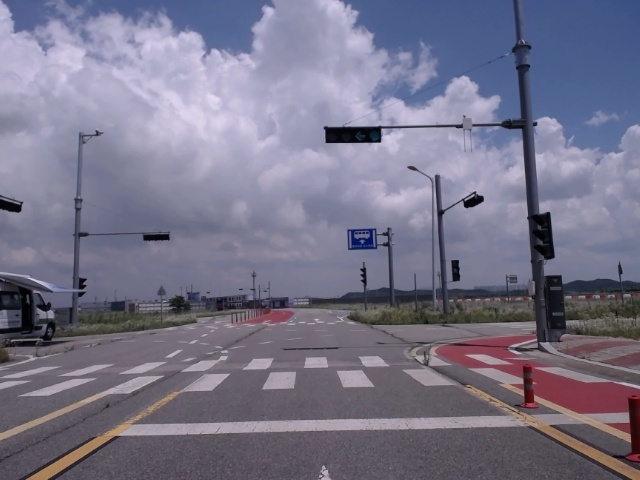all_green_4: (322, 126, 380, 143)
